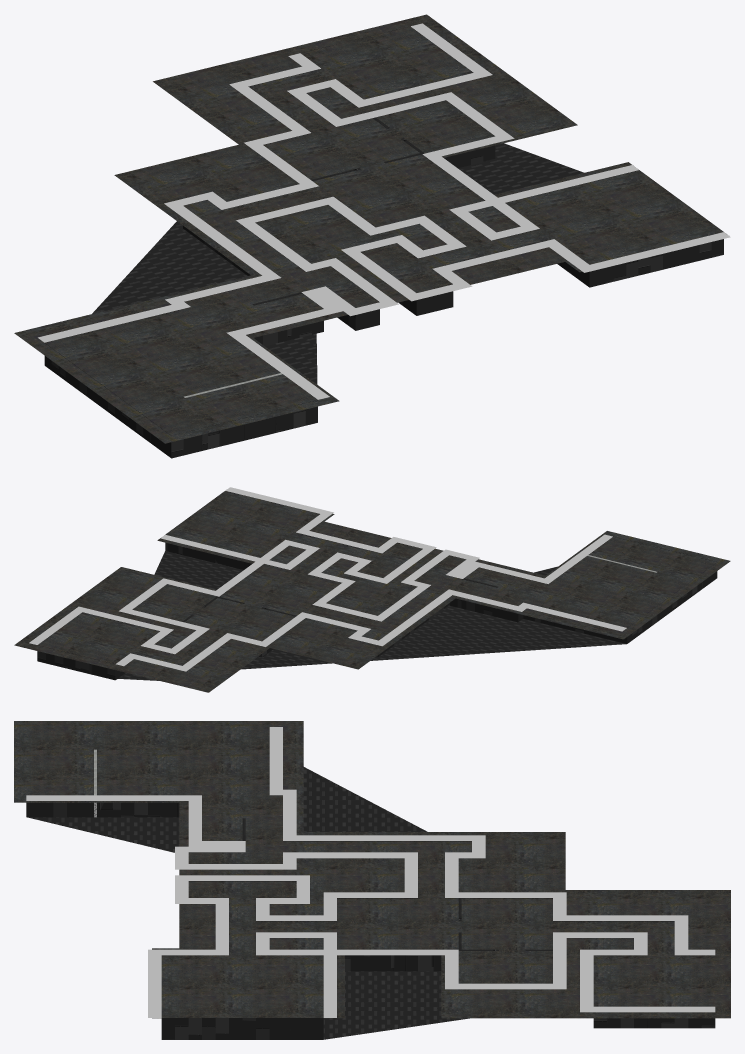
Rendered from texturedlevelmk5.fbx.
3 views of the same model, one above another, from view 1: azimuth 30°, elevation 25°; view 2: azimuth 150°, elevation 25°; view 3: azimuth 270°, elevation 25° (orthographic). The views are drawn at different scales.
Parts seen in each view (by area): view 1: Plane_001, Plane; view 2: Plane_001, Plane; view 3: Plane_001, Plane.
Boxes of the visible parts, x1,y1,x2,y2 form: Plane_001: [14, 14, 723, 443]; Plane: [38, 23, 730, 458]; Plane_001: [14, 491, 730, 692]; Plane: [29, 487, 717, 680]; Plane_001: [14, 721, 730, 1018]; Plane: [26, 727, 715, 1039].
Size of the model in its own units: 204 by 7 by 208.
